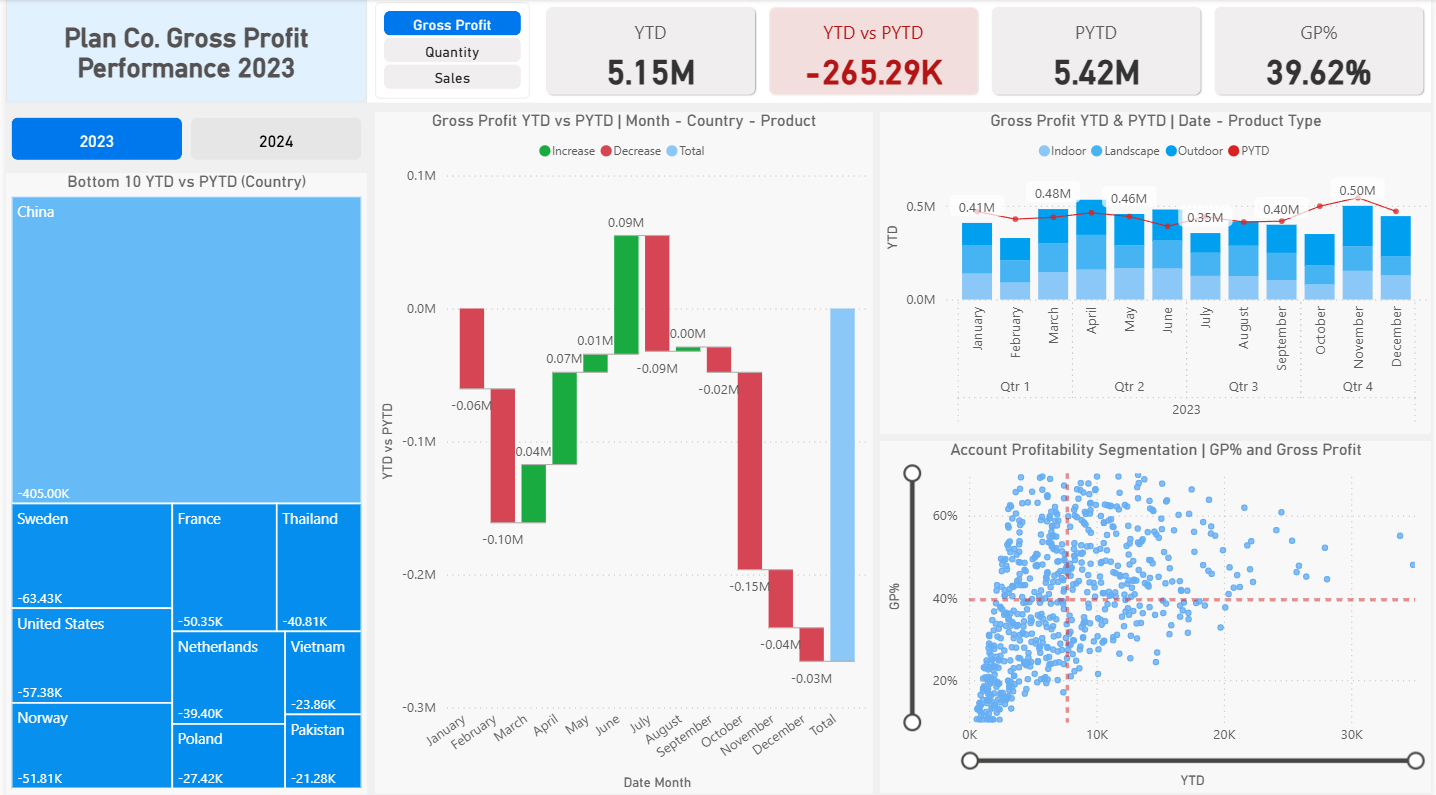

The dashboard page shown, as its layout file describes it:
{"tool":"powerbi","page":{"name":"Performance","canvas":[1280,720],"ordinal":0},"visuals":[{"type":"shape","box":[0,0,1280.4,93.4],"z":0},{"type":"cardVisual","fields":{"Data":["_Measures.S_YTD","_Measures.YTD vs PYTD","_Measures.S_PYTD","_Measures.GP%"]},"box":[477.6,0,802.6,93.4],"z":1000},{"type":"advancedSlicerVisual","fields":{"Values":["Slc_Values.Values"]},"box":[331.3,2.7,139.2,87.1],"z":2000},{"type":"advancedSlicerVisual","fields":{"Values":["Dim_Date.Date.Variation.Date Hierarchy.Year"]},"box":[0,101.4,324.1,48.5],"z":3000},{"type":"treemap","title":"Bottom 10 YTD vs PYTD (Country)","fields":{"Group":["Dim_Account.country"],"Values":["_Measures.YTD vs PYTD"]},"box":[0,156.2,324.1,557.5],"z":4000},{"type":"waterfallChart","fields":{"Y":["_Measures.YTD vs PYTD"],"Category":["Dim_Date.Date.Variation.Date Hierarchy.Month","Dim_Account.country","Dim_Product.Produt_Type","Dim_Product.Product_Name"]},"box":[331.3,101.4,447.1,612.3],"z":5000},{"type":"lineStackedColumnComboChart","fields":{"Y":["_Measures.S_YTD"],"Y2":["_Measures.S_PYTD"],"Series":["Dim_Product.Produt_Type"],"Category":["Dim_Date.Date.Variation.Date Hierarchy.Year","Dim_Date.Date.Variation.Date Hierarchy.Quarter","Dim_Date.Date.Variation.Date Hierarchy.Month"]},"box":[784.6,101.4,495.6,289.1],"z":6000},{"type":"scatterChart","fields":{"Y":["_Measures.GP%"],"X":["_Measures.S_YTD"],"Category":["Dim_Account.Account_id"]},"box":[784.6,396.8,495.6,316],"z":7000},{"type":"card","fields":{"Values":["_Measures._report title"]},"box":[0,0,324.1,93.4],"z":8000}]}

Visuals, with their boxes in screenshot pixels (x1, y1, x2, y2), scaled from the page's 1280x720 canvas onto the 1436x795 screenshot:
shape: <box>0,0,1435,103</box>
cardVisual - _Measures.S_YTD x _Measures.YTD vs PYTD: <box>536,0,1435,103</box>
advancedSlicerVisual - Slc_Values.Values: <box>372,3,528,99</box>
advancedSlicerVisual - Dim_Date.Date.Variation.Date Hierarchy.Year: <box>0,112,364,166</box>
"Bottom 10 YTD vs PYTD (Country)" treemap: <box>0,172,364,788</box>
waterfallChart - _Measures.YTD vs PYTD x Dim_Date.Date.Variation.Date Hierarchy.Month: <box>372,112,873,788</box>
lineStackedColumnComboChart - _Measures.S_YTD x _Measures.S_PYTD: <box>880,112,1435,431</box>
scatterChart - _Measures.GP% x _Measures.S_YTD: <box>880,438,1435,787</box>
card - _Measures._report title: <box>0,0,364,103</box>
